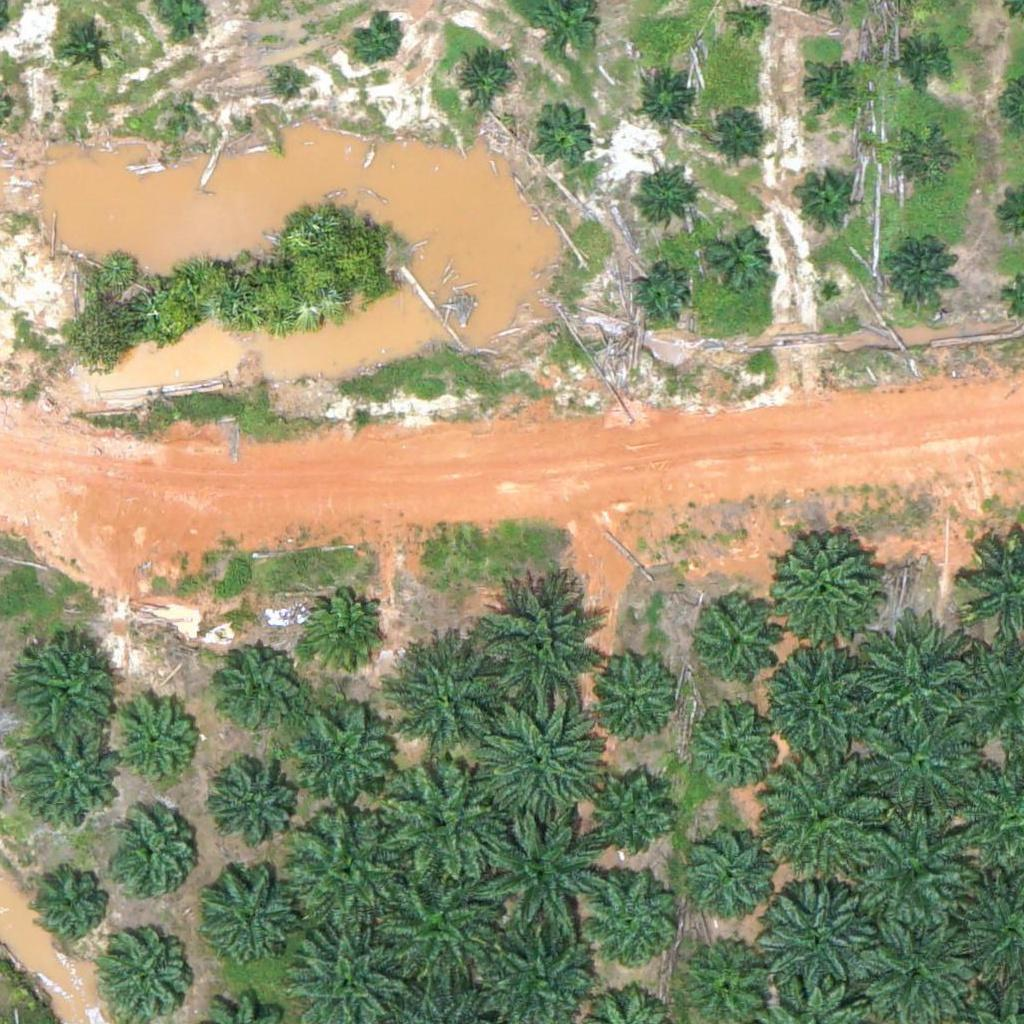Kelapa_Sawit: (855, 811, 980, 937), (860, 703, 985, 829), (854, 623, 979, 749), (758, 643, 883, 769), (757, 872, 882, 998), (480, 576, 605, 702), (475, 697, 600, 823), (476, 809, 601, 935), (389, 632, 514, 758), (384, 757, 509, 883), (377, 860, 502, 986), (286, 806, 411, 932), (769, 754, 894, 879), (763, 529, 876, 643), (581, 874, 681, 975), (296, 704, 396, 805), (19, 728, 119, 829), (15, 635, 115, 736), (583, 645, 683, 745), (197, 866, 297, 966), (688, 824, 776, 912), (218, 645, 306, 733), (111, 700, 199, 788), (108, 813, 196, 901), (28, 860, 115, 948), (695, 701, 782, 789), (694, 602, 781, 690), (588, 774, 675, 862), (298, 588, 385, 676), (212, 764, 299, 852), (882, 234, 957, 310), (696, 221, 771, 297), (629, 169, 692, 232), (528, 101, 591, 164), (796, 170, 859, 233), (628, 266, 691, 329), (895, 129, 957, 192), (451, 46, 513, 109), (636, 71, 698, 133), (703, 99, 765, 161), (62, 25, 112, 76), (896, 38, 946, 88), (351, 15, 401, 65), (800, 61, 850, 111), (732, 7, 770, 45), (276, 68, 301, 93), (181, 102, 206, 127)
